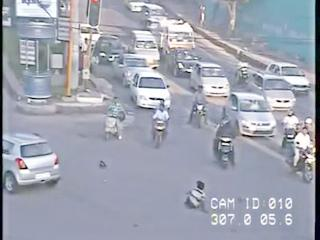Car: (3, 132, 60, 191), (225, 94, 277, 138), (250, 73, 296, 110), (129, 72, 171, 109), (122, 31, 160, 70), (113, 54, 156, 86), (190, 62, 230, 96), (268, 64, 311, 95), (159, 20, 195, 54), (92, 35, 126, 64), (168, 49, 202, 78), (141, 4, 170, 29), (79, 26, 102, 52)
Major Accident: (3, 129, 209, 222), (188, 85, 206, 126), (234, 63, 250, 85)
Motor: (213, 111, 238, 167), (102, 96, 125, 137), (183, 178, 207, 212), (152, 101, 170, 146), (293, 127, 311, 170), (281, 109, 299, 144), (304, 117, 315, 142)
